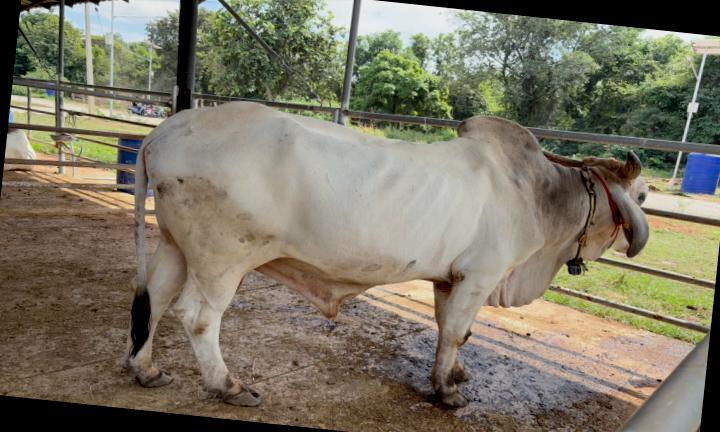Brahman: (123, 101, 648, 407)
